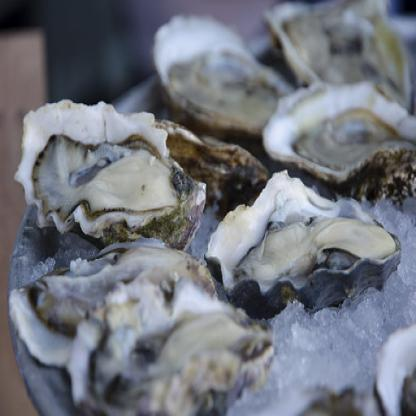oyster: (77, 276, 273, 415), (209, 173, 401, 313), (16, 99, 202, 238), (262, 77, 415, 210), (153, 7, 298, 141)
